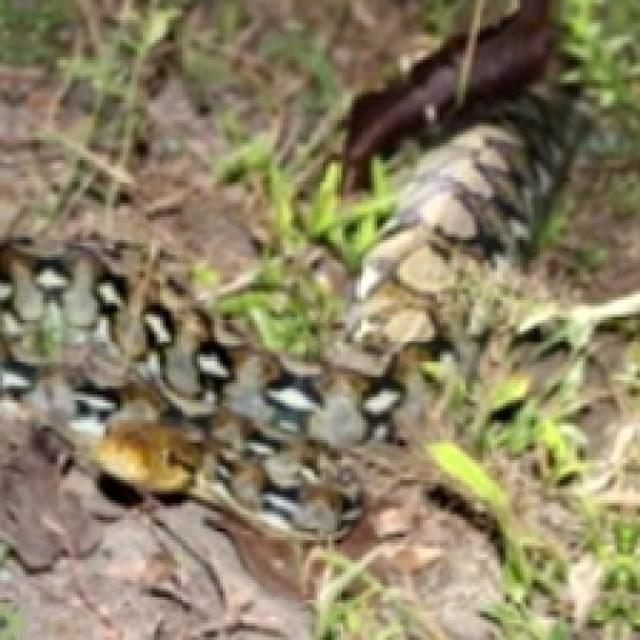reticulated python: (0, 84, 585, 539)
